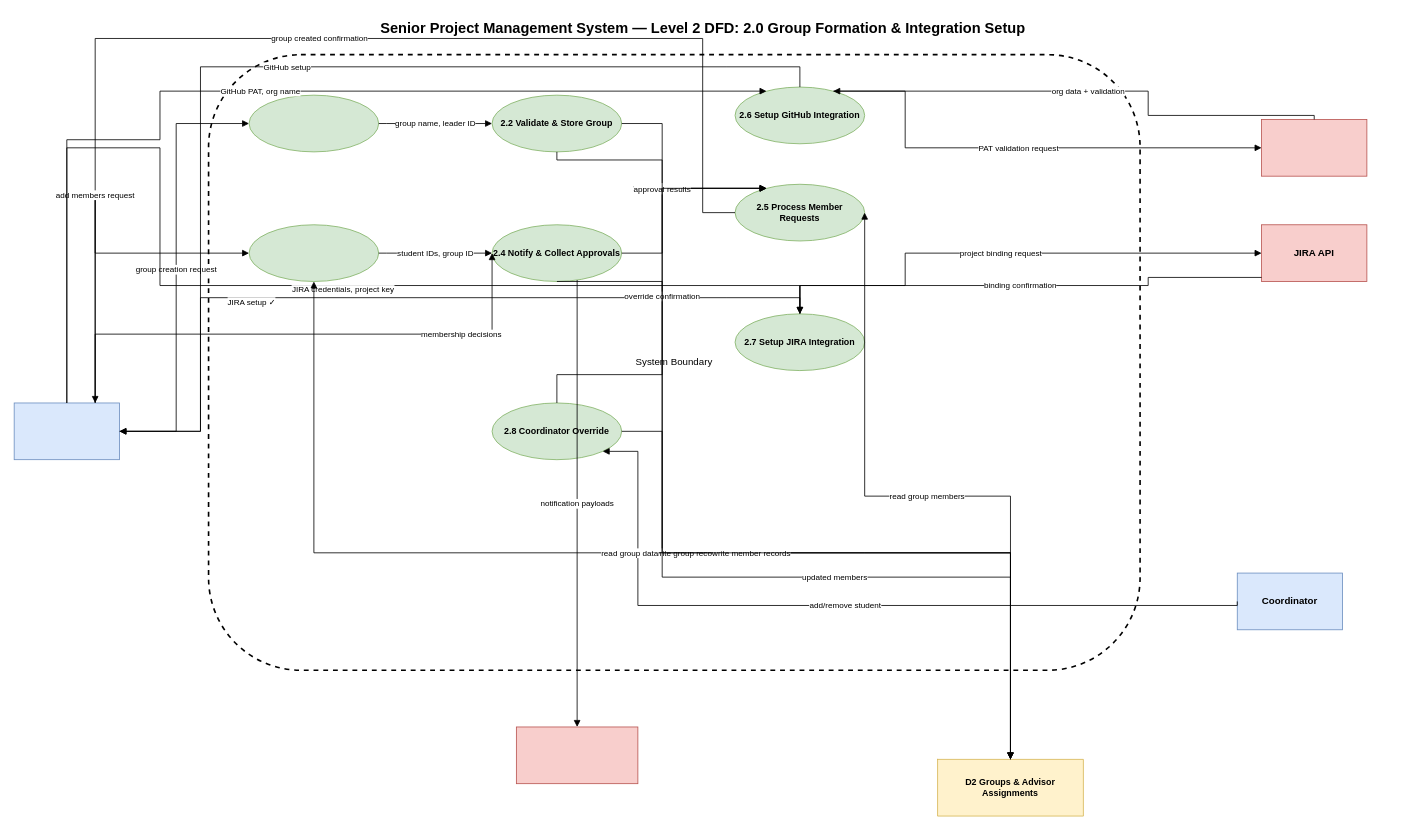
The diagram is 1405 pixels wide and 830 high, and some of its shapes have lost their labels. Each missing label, with the centre of its shape:
2.1 Create Group: the point at 313,123
2.3 Add Team Members: the point at 313,252
GitHub API: the point at 1314,147
Notification Service: the point at 577,755
Student: the point at 66,431
